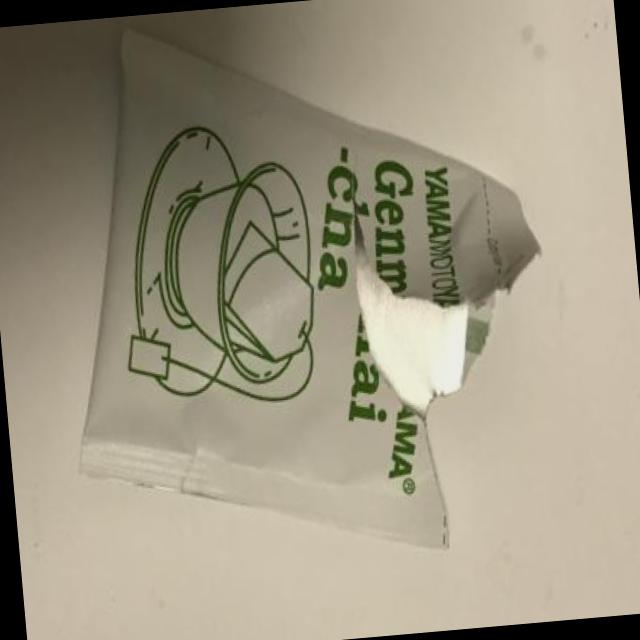giay_goi: (80, 31, 539, 549)
